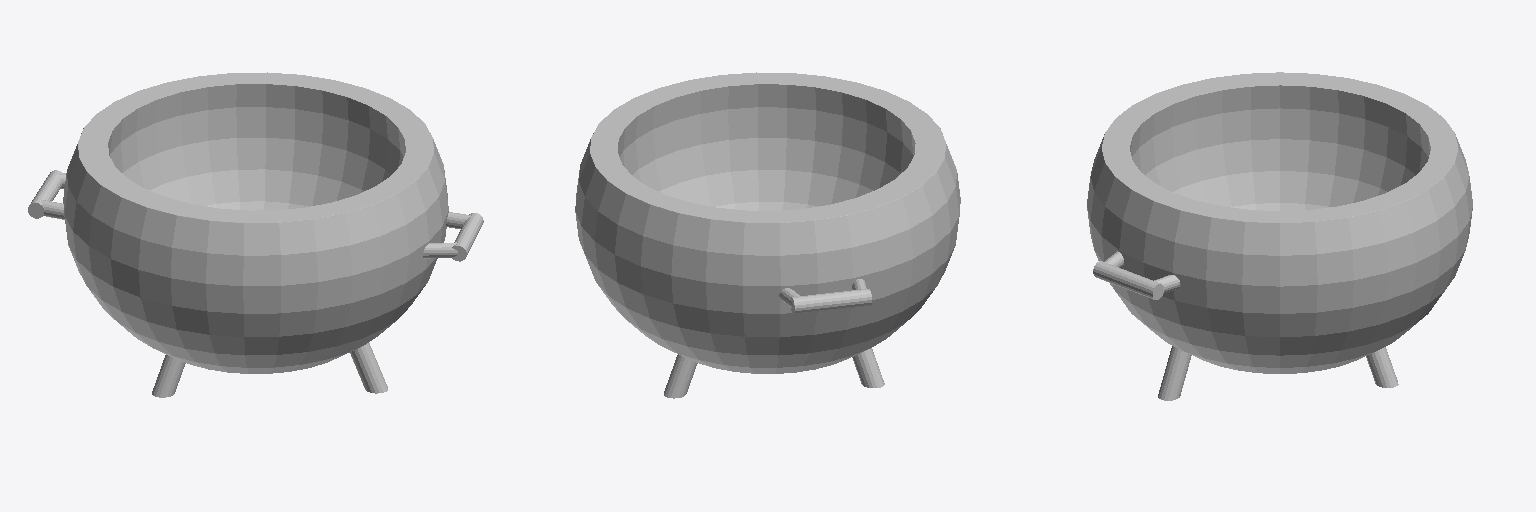
The model's file is roughcauldron.obj.
3 renders of one model, left to right at view 1: azimuth 30°, elevation 25°; view 2: azimuth 150°, elevation 25°; view 3: azimuth 270°, elevation 25°, orthographic.
Parts seen in each view (by area): view 1: Sphere001, Cylinder002, Cylinder001, Cylinder007, Cylinder004; view 2: Sphere001, Cylinder004, Cylinder003, Cylinder001; view 3: Sphere001, Cylinder007, Cylinder002, Cylinder003.
Part boxes in pixels (x1,y1,x2,y2): Sphere001: (63,72,448,373); Cylinder002: (350,343,387,393); Cylinder001: (152,355,185,397); Cylinder007: (452,213,483,261); Cylinder004: (28,170,61,218); Sphere001: (575,72,960,373); Cylinder004: (791,289,871,313); Cylinder003: (664,354,697,398); Cylinder001: (852,348,884,387); Sphere001: (1087,72,1472,373); Cylinder007: (1093,261,1163,299); Cylinder002: (1158,346,1191,400); Cylinder003: (1366,347,1398,387).
Size of the model in its own units: 39.83 by 24.62 by 39.83.